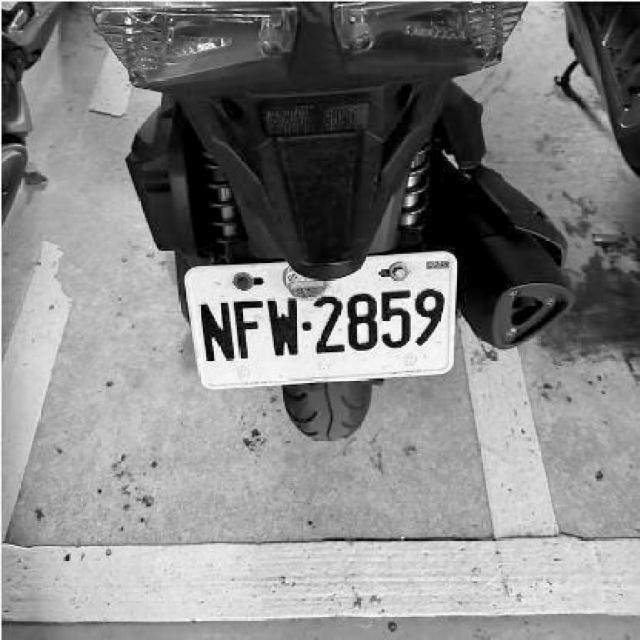-: (298, 318, 311, 331)
2: (312, 292, 345, 357)
5: (378, 291, 412, 354)
8: (344, 291, 378, 355)
9: (412, 284, 446, 344)
F: (227, 295, 262, 359)
N: (195, 297, 236, 363)
W: (266, 297, 302, 360)
